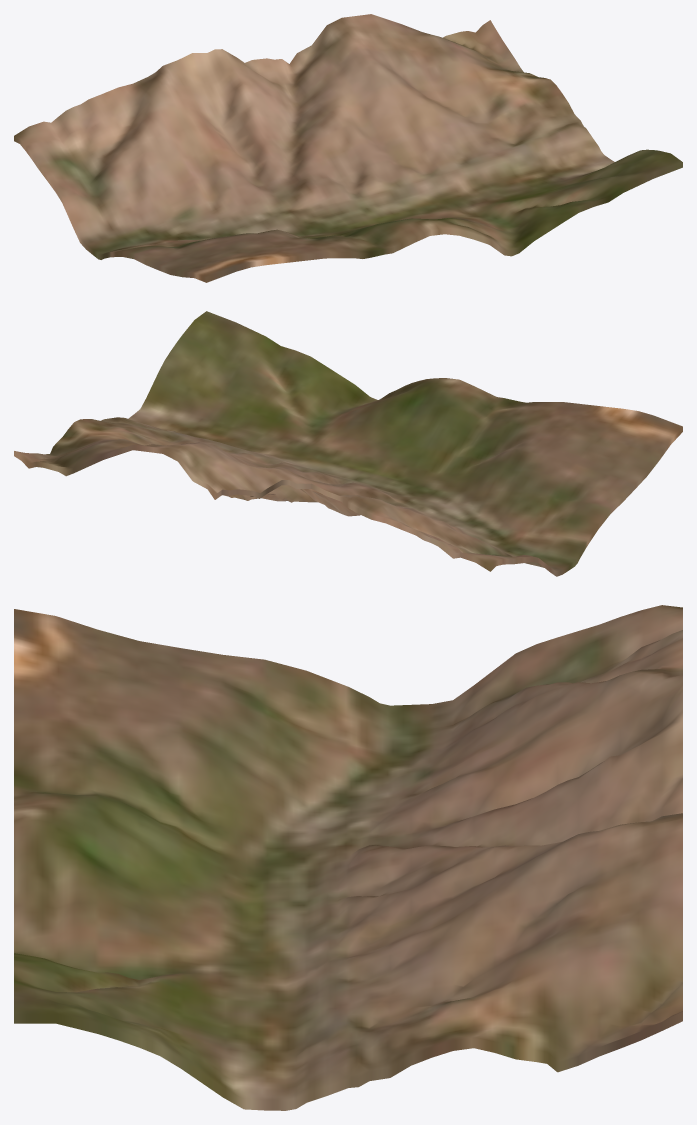
The model's file is terrain_r0_c2_lod2.glb.
3 views of the same model, one above another, from view 1: azimuth 30°, elevation 25°; view 2: azimuth 150°, elevation 25°; view 3: azimuth 270°, elevation 25° (orthographic). The views are drawn at different scales.
Visible parts, largest first — view 1: terrain_r0_c2_lod2; view 2: terrain_r0_c2_lod2; view 3: terrain_r0_c2_lod2.
Part boxes in pixels (x1,y1,x2,y2): terrain_r0_c2_lod2: (14, 14, 682, 282); terrain_r0_c2_lod2: (14, 311, 682, 576); terrain_r0_c2_lod2: (14, 605, 682, 1110).
Bounding box in the file's own units: 1125 × 228 × 787.
Materials: 1 (1 with a texture image).
